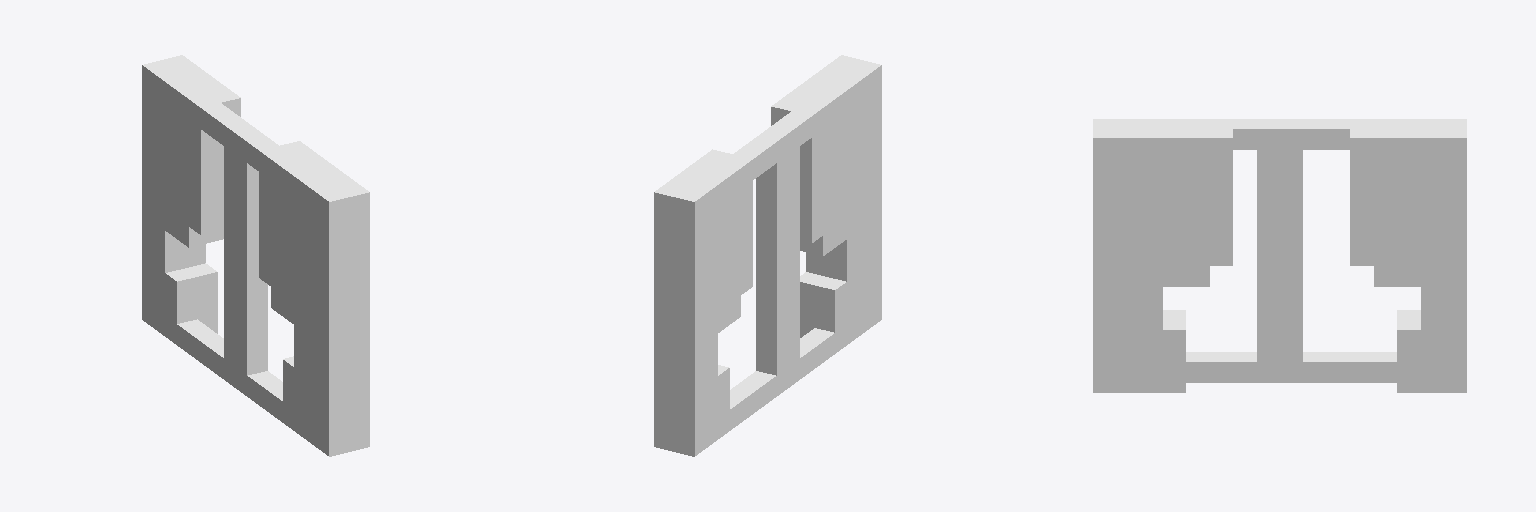
File: Window01.obj
3 views of the same model, side by side, from view 1: azimuth 30°, elevation 25°; view 2: azimuth 150°, elevation 25°; view 3: azimuth 270°, elevation 25° (orthographic).
Parts seen in each view (by area): view 1: object 1; view 2: object 1; view 3: object 1.
Part boxes in pixels (left/top/right/bottom): object 1: left=142, top=55, right=369, bottom=456; object 1: left=654, top=55, right=881, bottom=456; object 1: left=1093, top=119, right=1466, bottom=392.
Size of the model in its own units: 0.2 by 1.2 by 1.6.